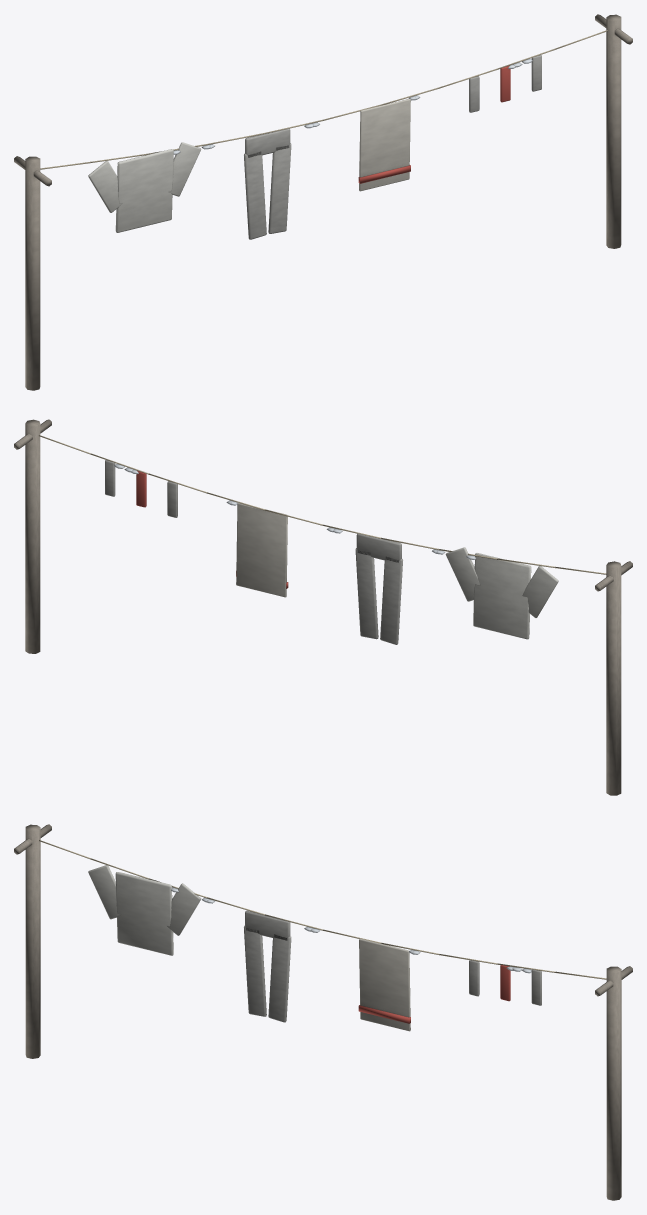
File: laundry_line.glb
3 renders of one model, top to bottom at view 1: azimuth 30°, elevation 25°; view 2: azimuth 150°, elevation 25°; view 3: azimuth 330°, elevation 25°, orthographic.
Parts seen in each view (by area): view 1: laundry_line; view 2: laundry_line; view 3: laundry_line.
Boxes of the visible parts, box(x1,y1,x2,y2) form: laundry_line: box(14, 14, 632, 390); laundry_line: box(14, 419, 632, 795); laundry_line: box(14, 824, 632, 1200).
Bounding box in the file's own units: 5.32 × 1.95 × 0.5.
Materials: 1 (1 with a texture image).
